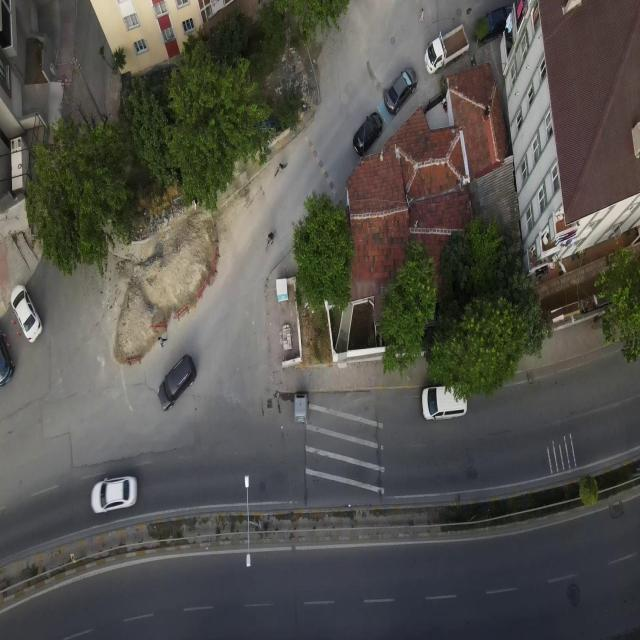p3rson: (158, 337, 167, 347), (419, 8, 424, 23)
